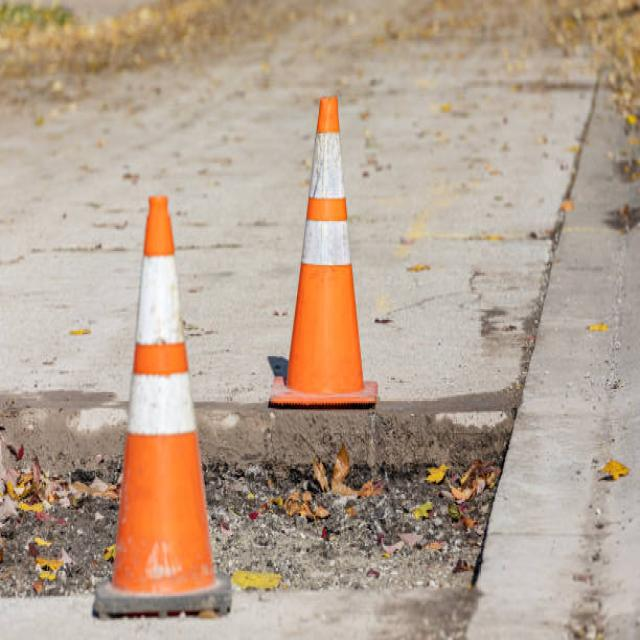Traffic Cone: (65, 158, 269, 640), (260, 72, 390, 426)
